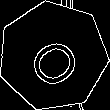O_NE: (20, 24, 86, 88)
